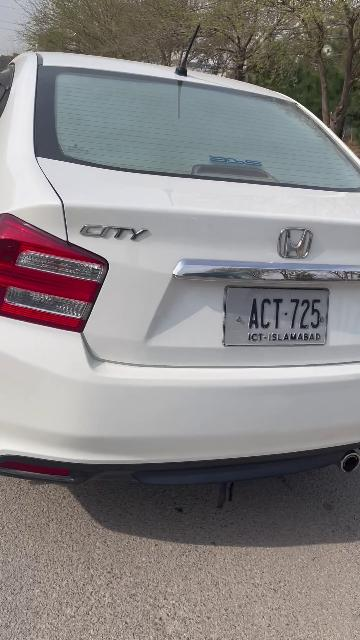plate: (223, 286, 330, 346)
